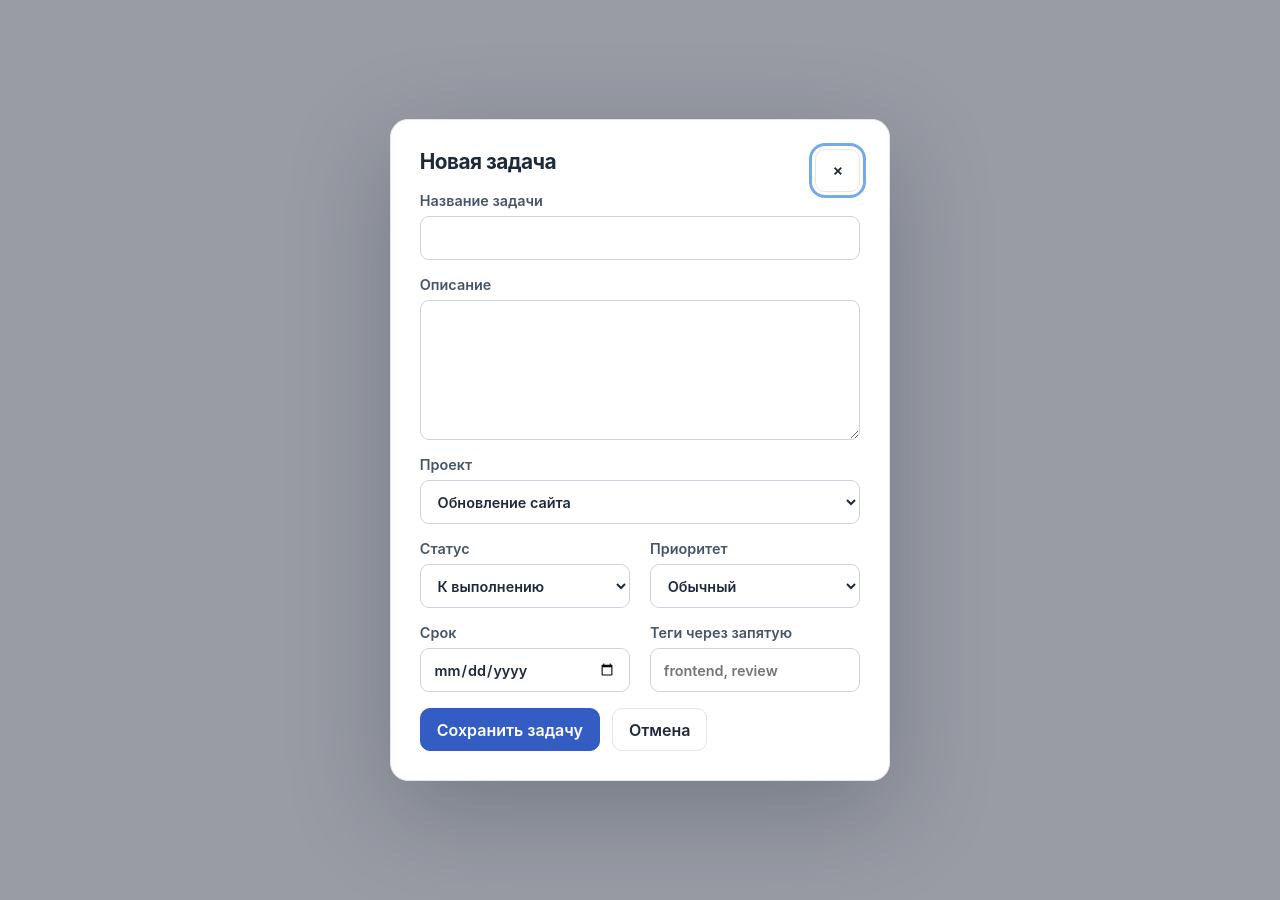
Test case: displays field validation without sending invalid data
Step 1. Click the button "Сохранить задачу" → (510, 730), box [420,708,600,751]
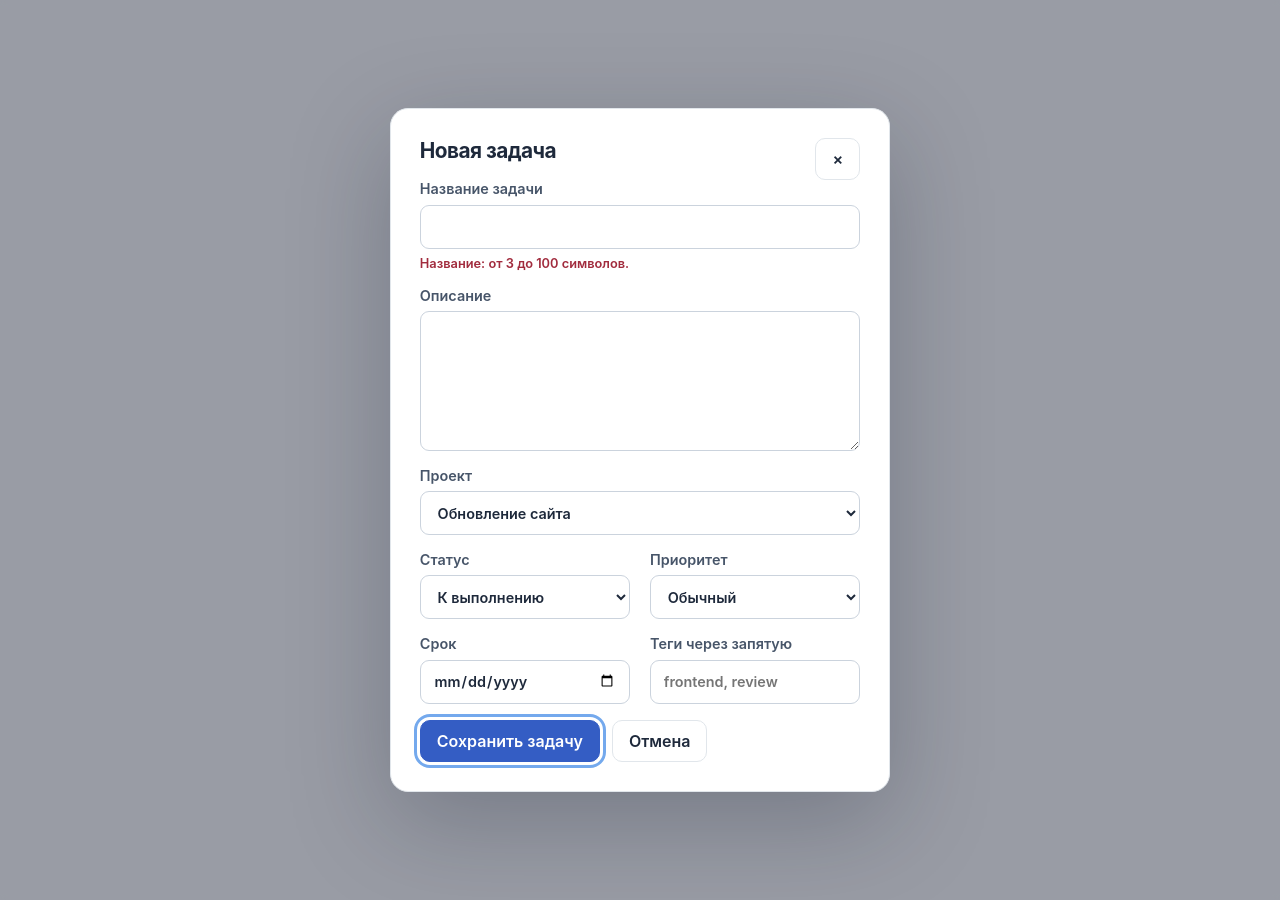
expect the text "Название: от 3 до 100 символов." is shown: met, box [420,256,629,271]
